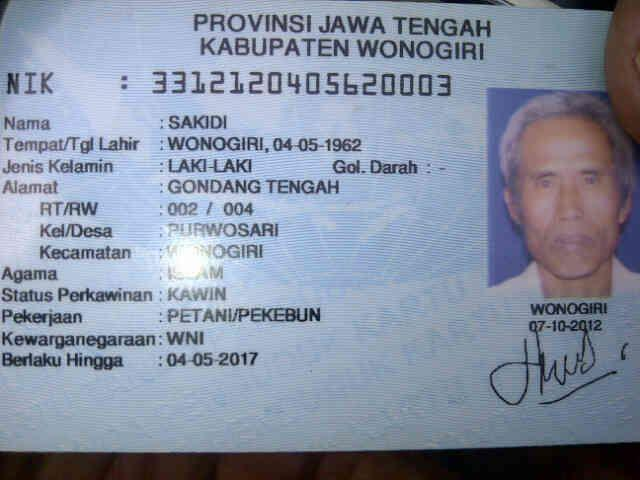ID-card: (3, 1, 638, 450)
